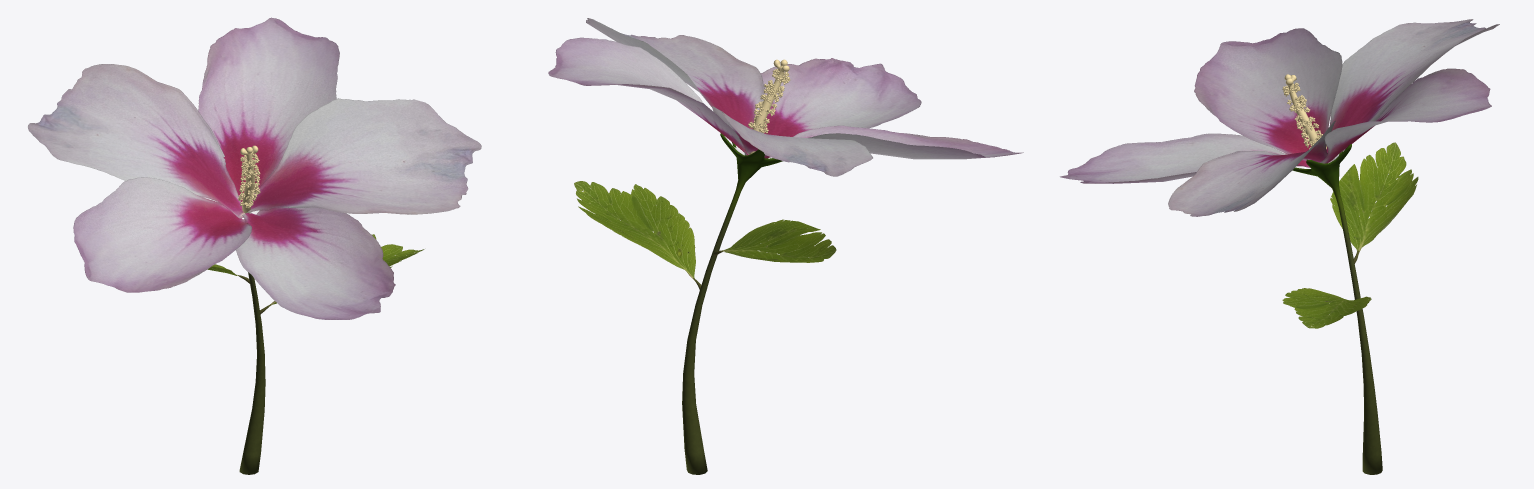
The model's file is RoseofSharon-V1.glb.
The picture shows the model from 3 angles, left to right: view 1: azimuth 30°, elevation 25°; view 2: azimuth 150°, elevation 25°; view 3: azimuth 270°, elevation 25°; orthographic projection. The views are drawn at different scales.
Parts seen in each view (by area): view 1: Petal.001, Branch.001, Pistil Petal.001; view 2: Petal.001, Branch.001, Pistil Petal.001, Pistil.001; view 3: Petal.001, Branch.001, Pistil Petal.001, Pistil.001.
Part boxes in pixels (<box>): Petal.001: <box>28,17,481,319</box>; Branch.001: <box>207,210,424,474</box>; Pistil Petal.001: <box>238,153,260,208</box>; Petal.001: <box>548,18,1023,176</box>; Branch.001: <box>574,133,836,474</box>; Pistil Petal.001: <box>748,68,790,133</box>; Pistil.001: <box>749,59,789,154</box>; Petal.001: <box>1060,19,1499,216</box>; Branch.001: <box>1282,142,1418,474</box>; Pistil Petal.001: <box>1282,82,1326,149</box>; Pistil.001: <box>1284,74,1317,146</box>.
Bounding box in the file's own units: 2.6 × 2.37 × 2.42.
4 materials, 3 textured.
